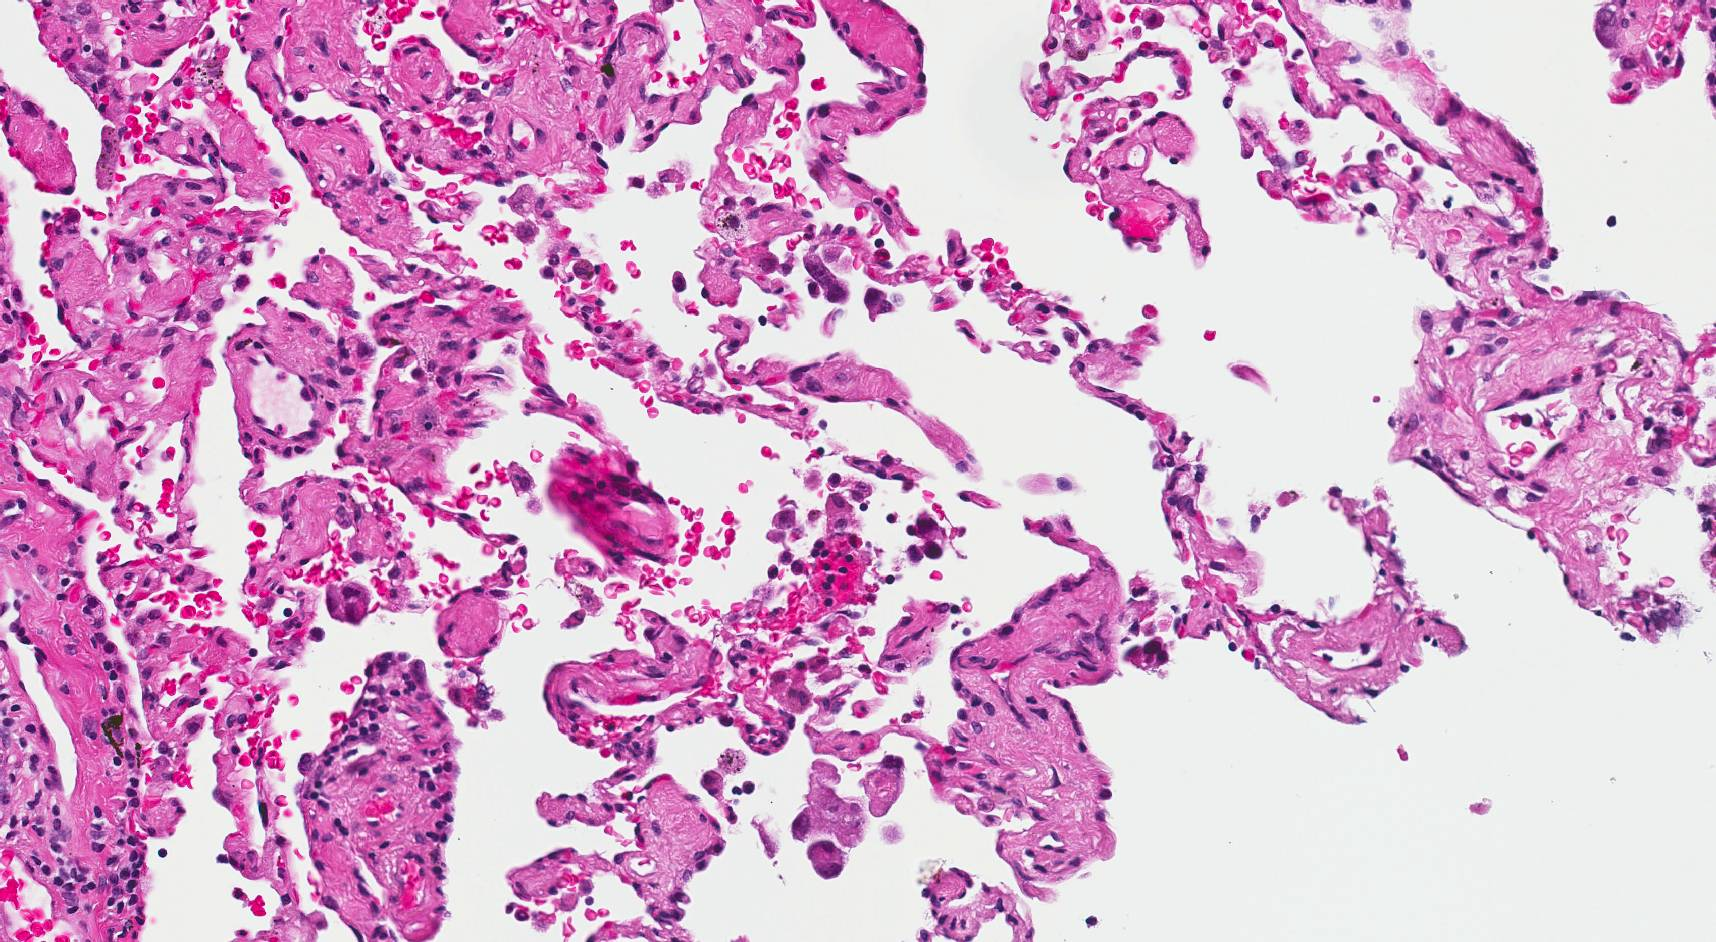stas: (800, 252, 900, 321), (900, 504, 955, 570), (319, 578, 374, 628), (808, 836, 850, 883), (1123, 637, 1174, 672)
